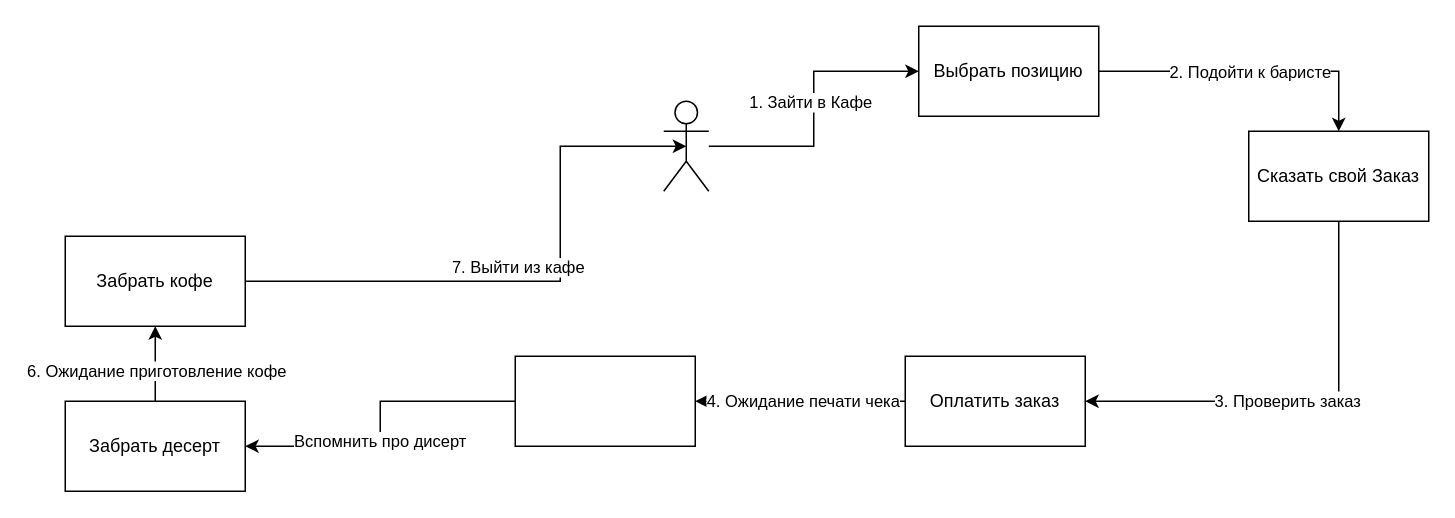
The diagram is 1455 pixels wide and 518 high, and some of its shapes have lost their labels. Each missing label, with the centre of its shape:
Забрать чек: the point at 604,400
Пользователь: the point at 685,145
